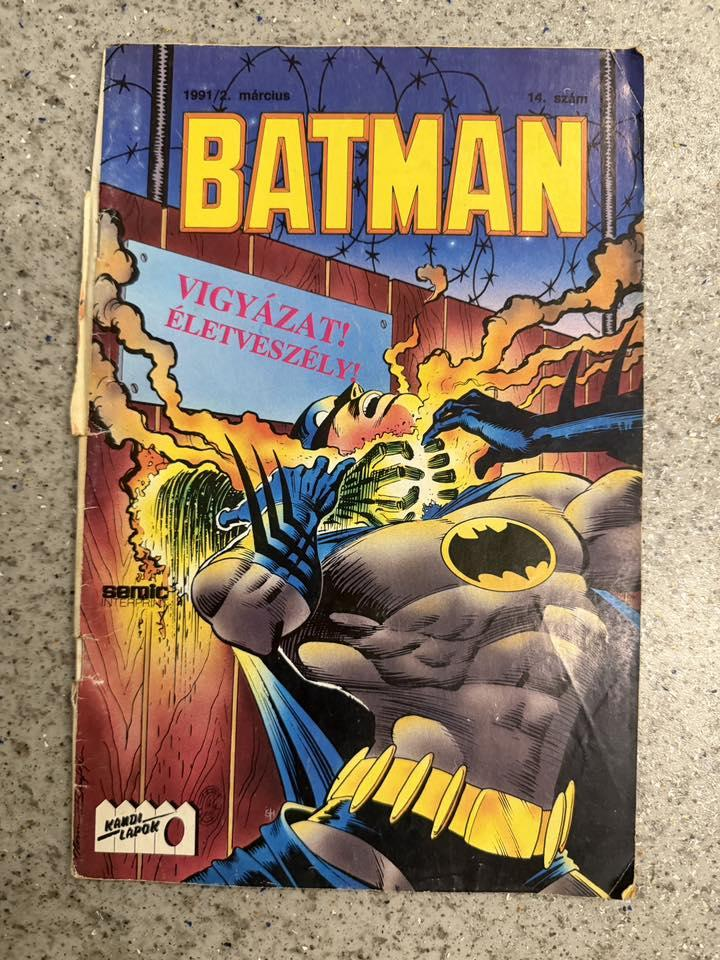comic: (69, 45, 644, 896)
